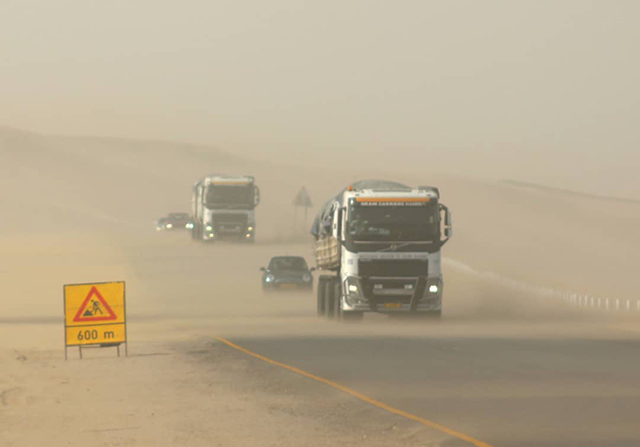car: (261, 255, 311, 290), (167, 211, 192, 233), (153, 215, 167, 231)
truck: (315, 176, 452, 328), (188, 173, 258, 243)
